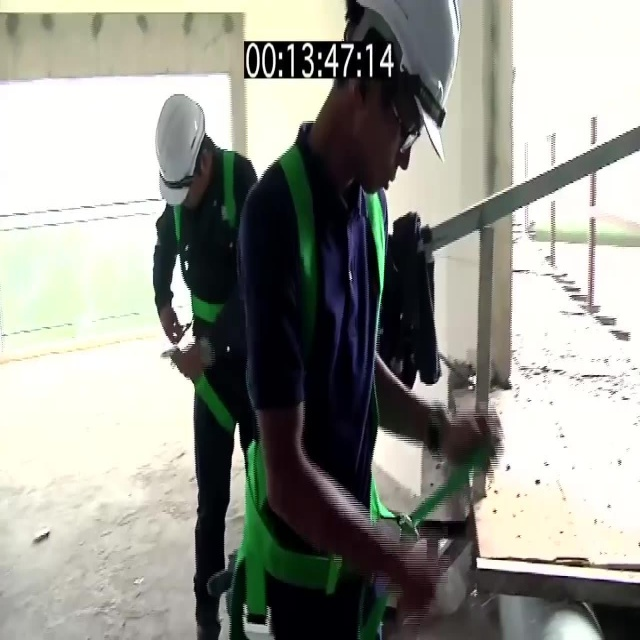Arnes_seguridad: (245, 146, 385, 624), (175, 150, 238, 424)
